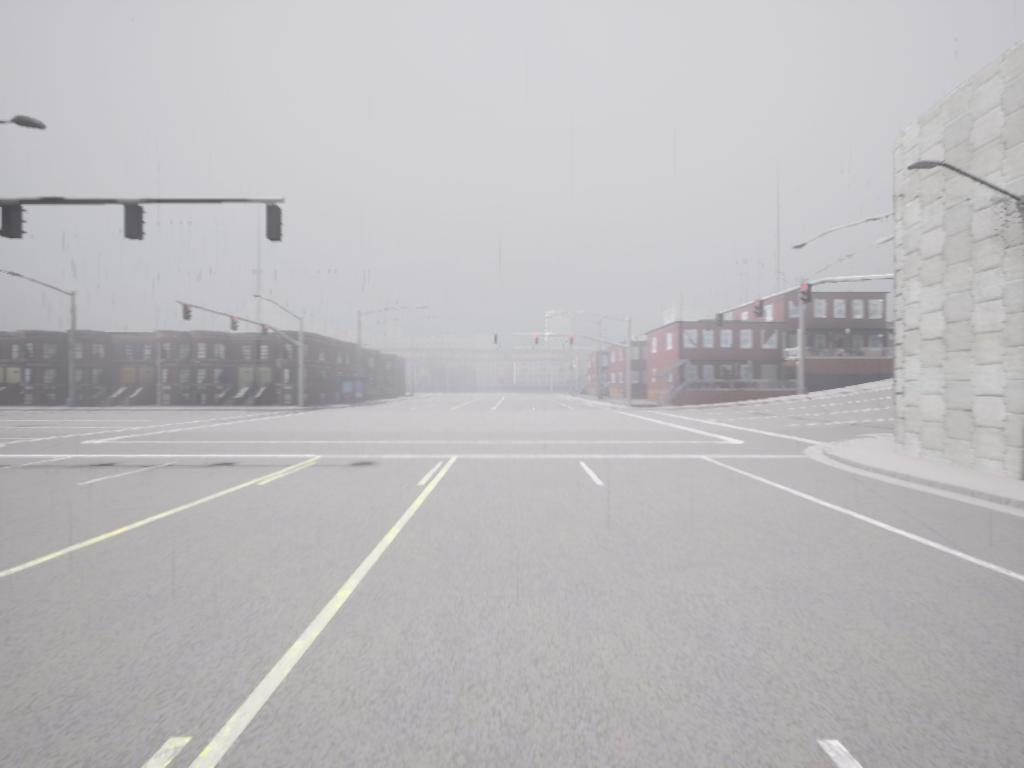traffic_light: (2, 203, 29, 242), (122, 204, 148, 241), (800, 283, 814, 308), (754, 297, 765, 321), (715, 312, 725, 334), (184, 302, 194, 324), (230, 315, 240, 335), (260, 325, 270, 343), (570, 339, 576, 348), (496, 335, 500, 347), (536, 337, 540, 347)
